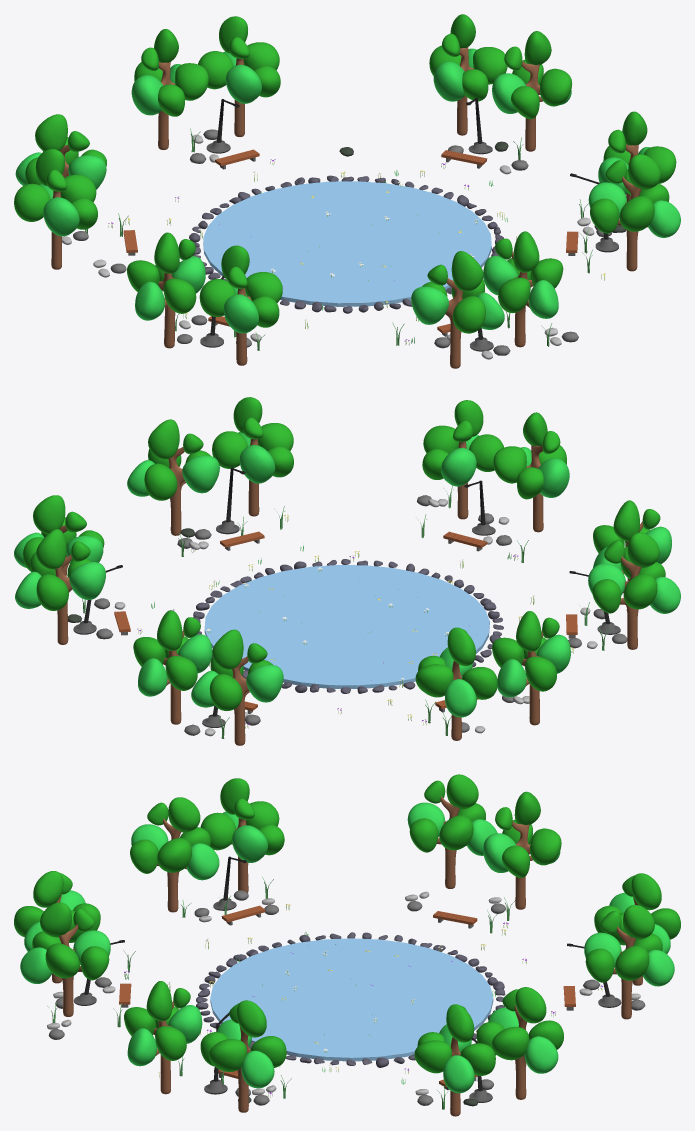
3 views of the same model, one above another, from view 1: azimuth 30°, elevation 25°; view 2: azimuth 150°, elevation 25°; view 3: azimuth 270°, elevation 25° (orthographic). The views are drawn at different scales.
Parts seen in each view (by area): view 1: Cylinder, Cylinder.057, Cylinder.059, Cylinder.060, Cylinder.007, Cylinder.010, Cylinder.011, Cylinder.005, Cylinder.012, Cylinder.004, Cylinder.015, Cylinder.006 (+2 smaller); view 2: Cylinder, Cylinder.007, Cylinder.012, Cylinder.016, Cylinder.015, Cylinder.005, Cylinder.010, Cylinder.057, Cylinder.060, Cylinder.059, Cylinder.006, Cylinder.004 (+2 smaller); view 3: Cylinder, Cylinder.011, Cylinder.005, Cylinder.060, Cylinder.010, Cylinder.015, Cylinder.016, Cylinder.057, Cylinder.007, Cylinder.006, Cylinder.004, Cylinder.059 (+2 smaller).
Boxes of the visible parts, x1,y1,x2,y2 form: Cylinder: (203,181,491,306); Cylinder.057: (588,154,680,271); Cylinder.059: (411,251,504,368); Cylinder.060: (483,231,563,347); Cylinder.007: (127,232,205,348); Cylinder.010: (14,149,97,269); Cylinder.011: (199,245,282,365); Cylinder.005: (198,16,280,136); Cylinder.012: (131,29,208,149); Cylinder.004: (492,31,572,151); Cylinder.015: (429,14,507,135); Cylinder.006: (15,114,106,189); Cylinder: (204,565,489,688); Cylinder.007: (588,532,680,649); Cylinder.012: (191,629,283,745); Cylinder.016: (127,419,219,535); Cylinder.015: (15,529,105,644); Cylinder.005: (133,610,212,724); Cylinder.010: (492,611,570,725); Cylinder.057: (212,397,293,516); Cylinder.060: (422,400,503,519); Cylinder.059: (493,412,569,532); Cylinder.006: (415,627,497,740); Cylinder.004: (14,495,104,576); Cylinder: (210,938,493,1061); Cylinder.011: (130,797,219,912); Cylinder.005: (584,905,674,1019); Cylinder.060: (20,902,110,1016); Cylinder.010: (407,774,497,888); Cylinder.015: (476,987,563,1099); Cylinder.016: (200,1000,286,1112); Cylinder.057: (124,981,202,1094); Cylinder.007: (200,778,284,892); Cylinder.006: (483,791,561,909); Cylinder.004: (414,1004,495,1116); Cylinder.059: (14,871,100,983).
Size of the model in its own units: 17.62 by 3.68 by 18.9.
